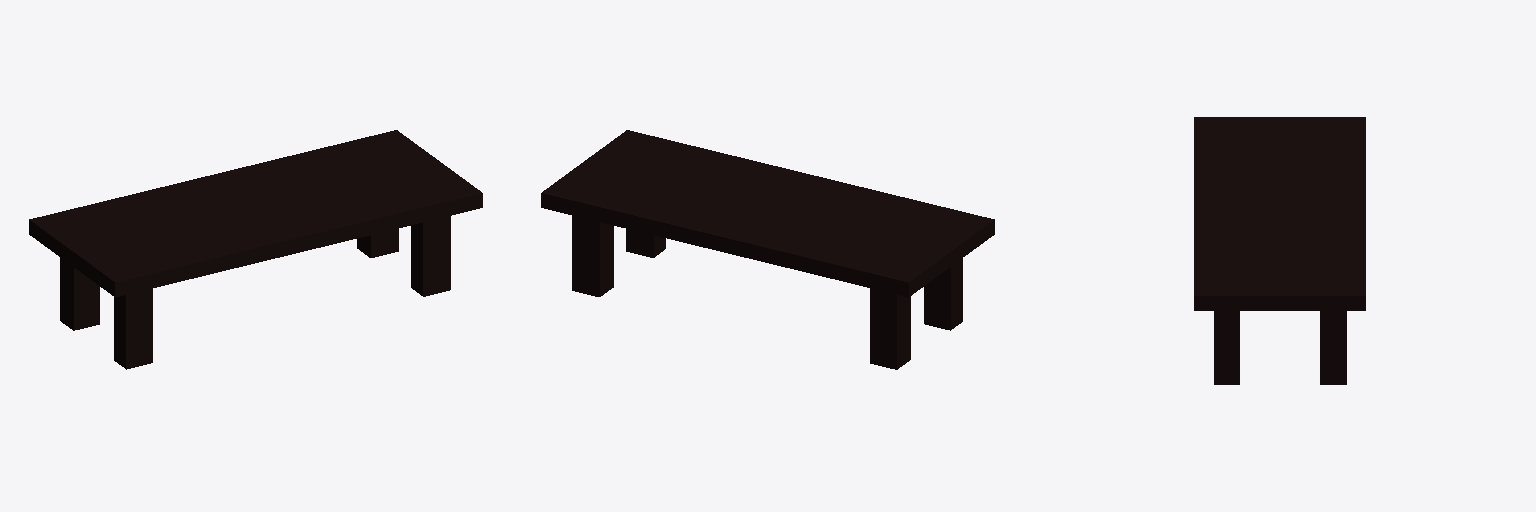
File: mesa.obj
3 views of the same model, side by side, from view 1: azimuth 30°, elevation 25°; view 2: azimuth 150°, elevation 25°; view 3: azimuth 270°, elevation 25° (orthographic).
Visible parts, largest first — view 1: pCube1; view 2: pCube1; view 3: pCube1.
Boxes of the visible parts, x1=… form: pCube1: x1=29, y1=130, x2=482, y2=369; pCube1: x1=541, y1=130, x2=994, y2=369; pCube1: x1=1194, y1=117, x2=1365, y2=384.
Size of the model in its own units: 21.97 by 5.69 by 8.91.